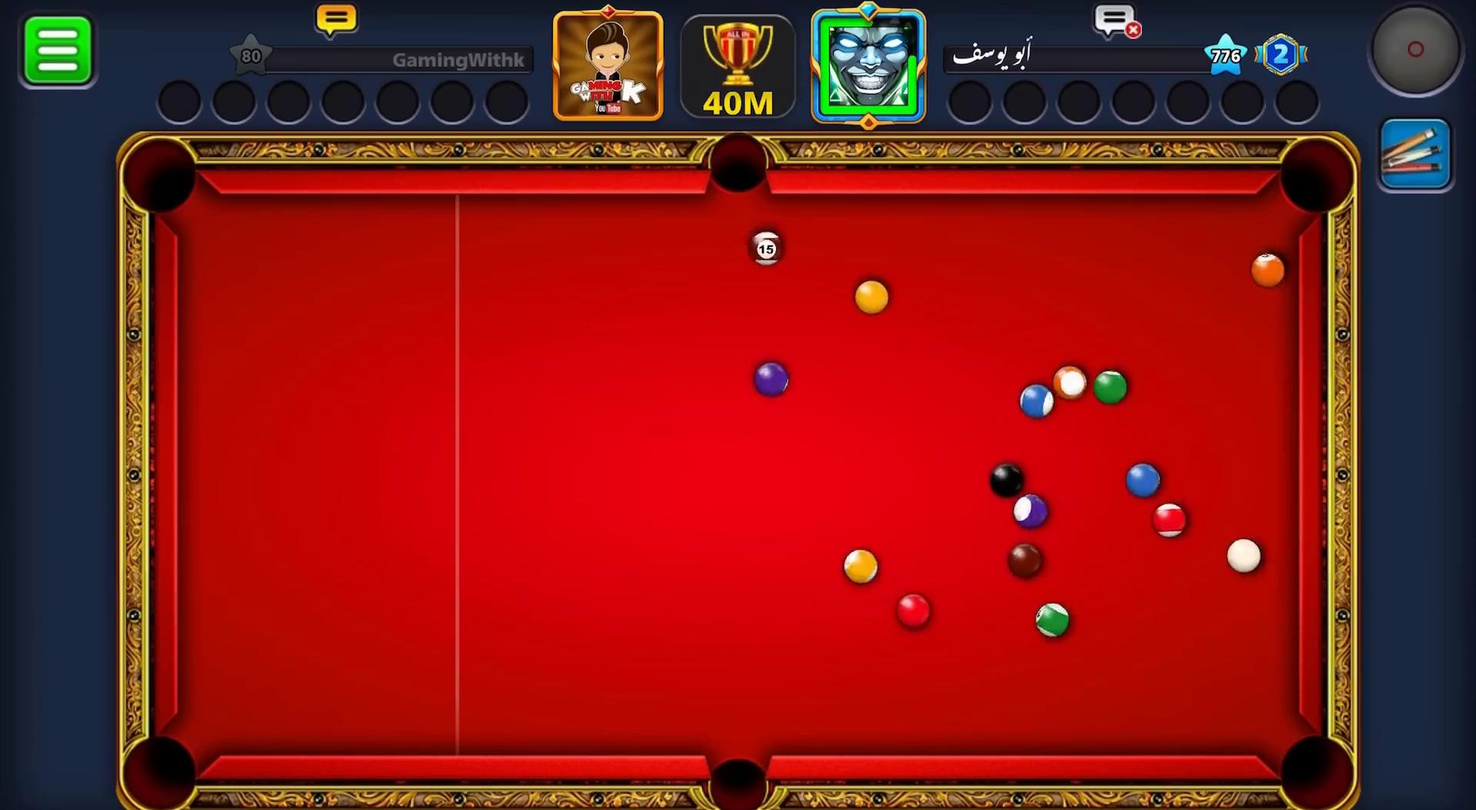Ball: (1254, 252, 1290, 288), (747, 230, 782, 267), (898, 591, 932, 629), (755, 357, 788, 396), (1036, 603, 1070, 638), (1016, 493, 1049, 529), (1022, 385, 1055, 420), (843, 549, 878, 582), (1010, 543, 1042, 577), (1095, 370, 1127, 403), (1053, 366, 1085, 399), (1154, 505, 1186, 538), (1130, 465, 1160, 499), (856, 285, 888, 314), (991, 467, 1020, 497)
Hole: (123, 137, 202, 220), (1283, 136, 1357, 221), (1280, 733, 1357, 810), (124, 734, 196, 810), (704, 136, 772, 197), (708, 757, 769, 810)
Play_Area: (180, 195, 1299, 758)
Spin: (1367, 5, 1467, 101)
White: (1227, 538, 1266, 572)
